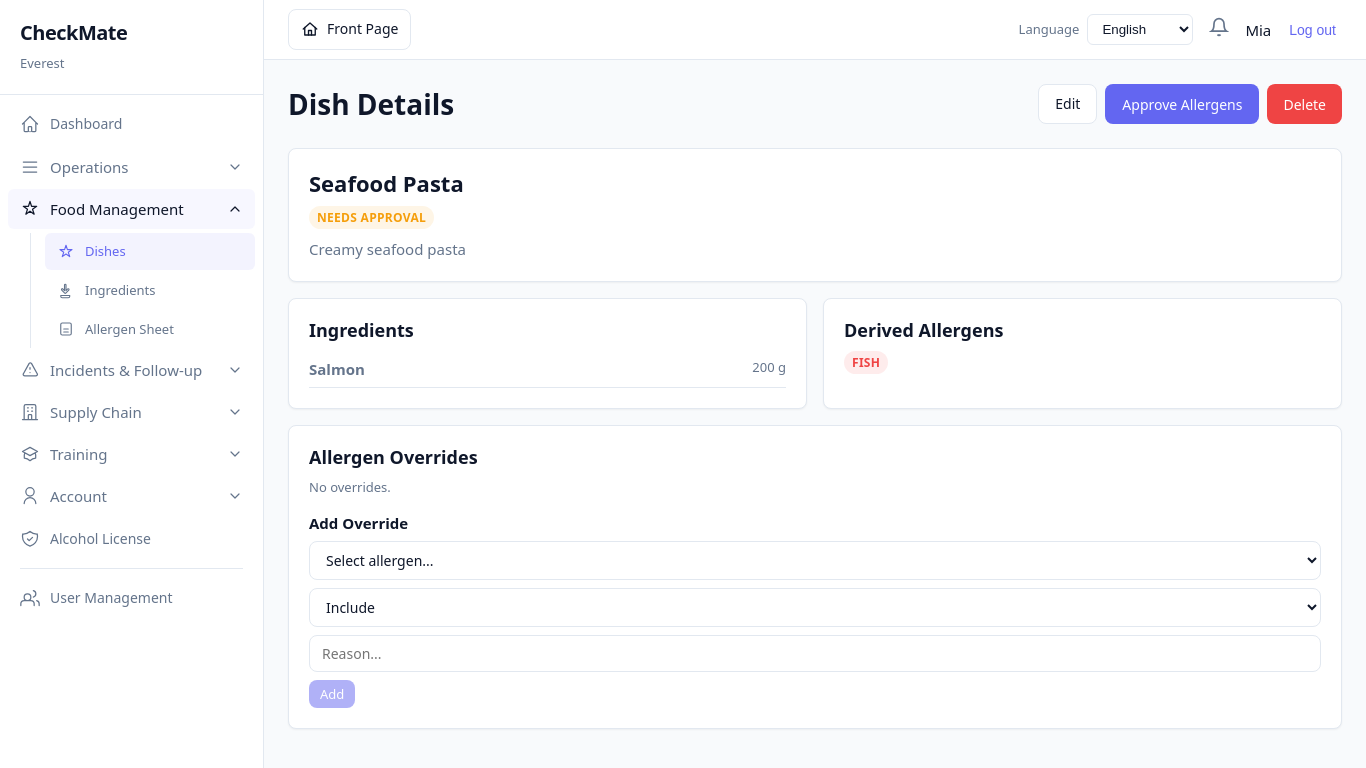
it: dish allergen overrides › adds an allergen override from the dish detail page
Expected: the heading "Seafood Pasta" is shown, 309,168 -> 464,198
Select "Milk" in the 2nd dropdown at (815,561), box 309,541 -> 1321,580
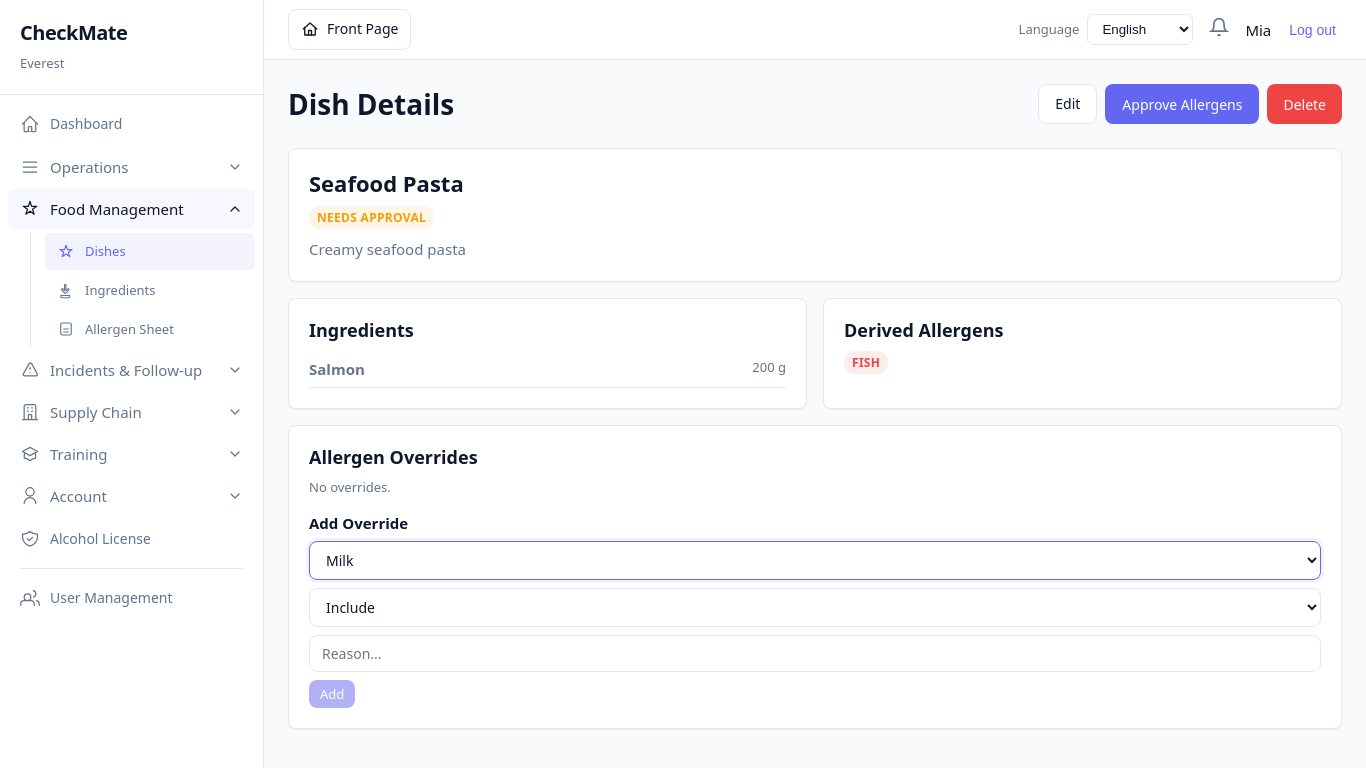
Type "Cream sauce" into the field with placeholder "Reason..." at (815,654), box 309,635 -> 1321,672
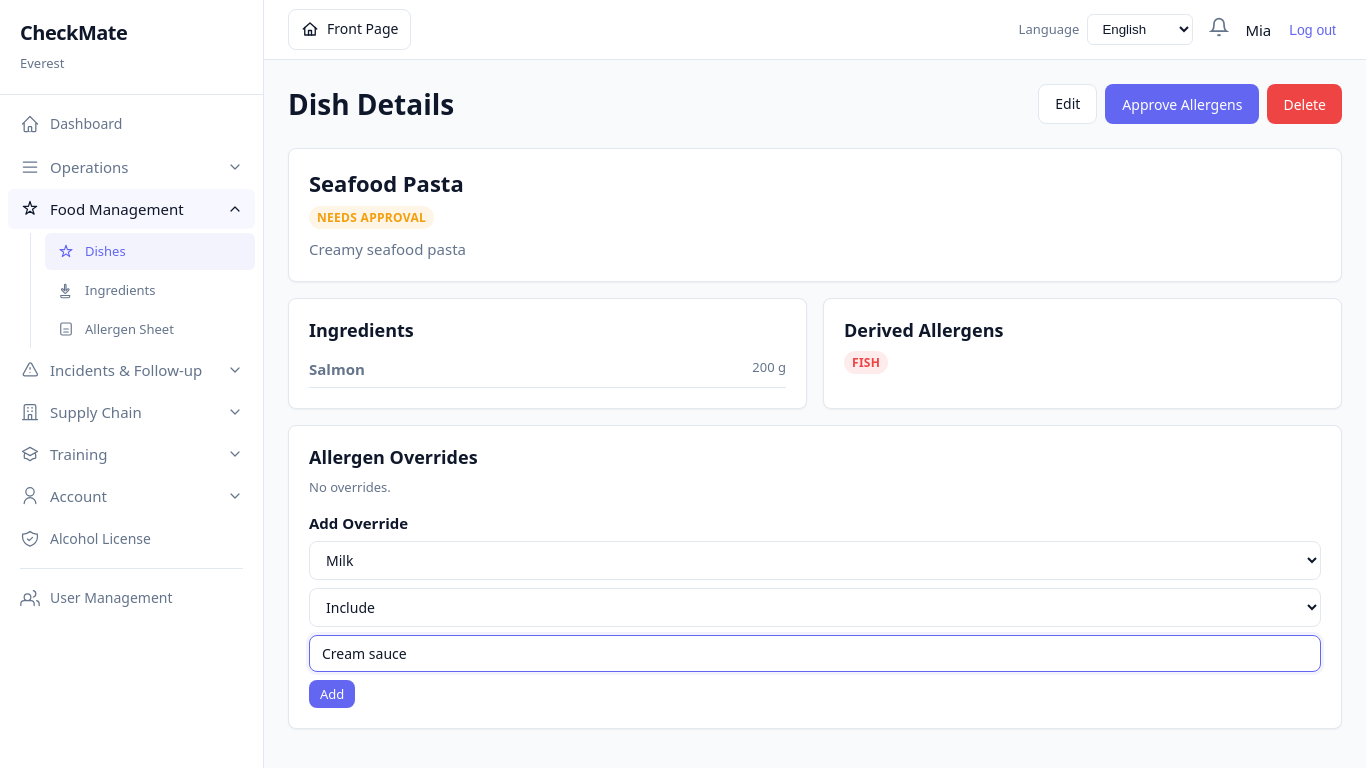
Click the button "Add" at (332,694), box 309,680 -> 355,708
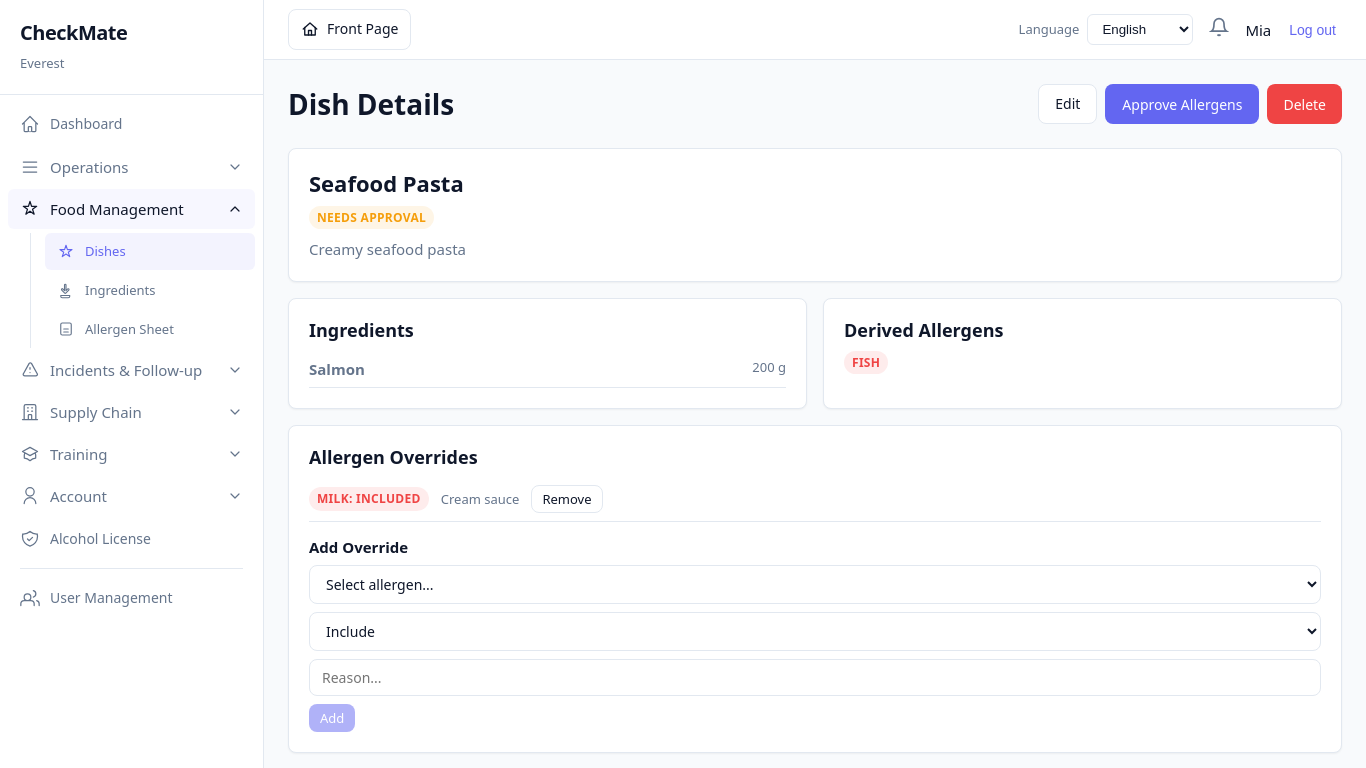
Now the text "Milk: Included" is shown, box 309,487 -> 429,511
